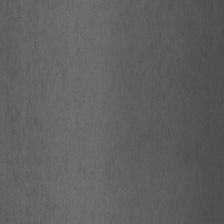silk_spot: (17, 30, 117, 178)
